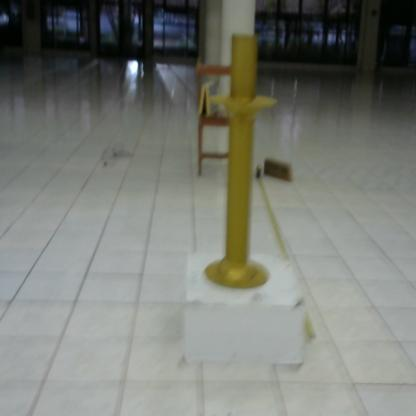pole: (198, 29, 284, 296)
